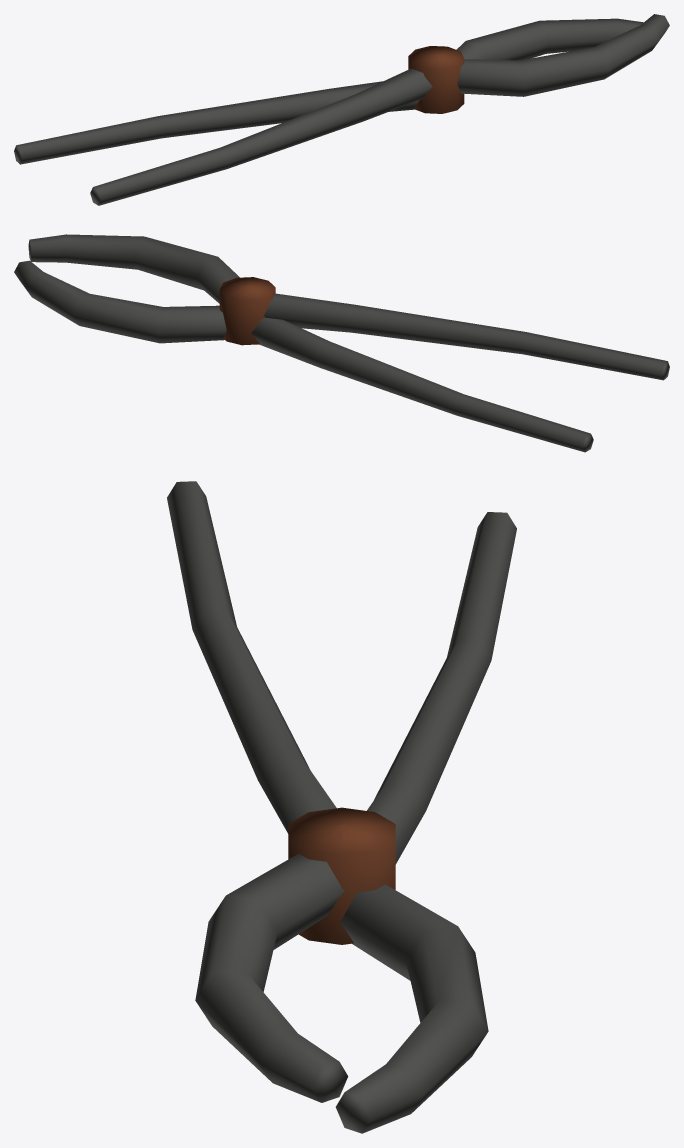
Rendered from lake-kleshchi-shallows-0.glb.
3 renders of one model, top to bottom at view 1: azimuth 30°, elevation 25°; view 2: azimuth 150°, elevation 25°; view 3: azimuth 270°, elevation 25°, orthographic. The views are drawn at different scales.
Parts seen in each view (by area): view 1: lake-kleshchi-shallows-0; view 2: lake-kleshchi-shallows-0; view 3: lake-kleshchi-shallows-0.
Boxes of the visible parts, <box> form: lake-kleshchi-shallows-0: <box>14,14,669,205</box>; lake-kleshchi-shallows-0: <box>14,234,669,452</box>; lake-kleshchi-shallows-0: <box>167,481,516,1133</box>.
Size of the model in its own units: 0.3965 by 0.0318 by 0.0992.
